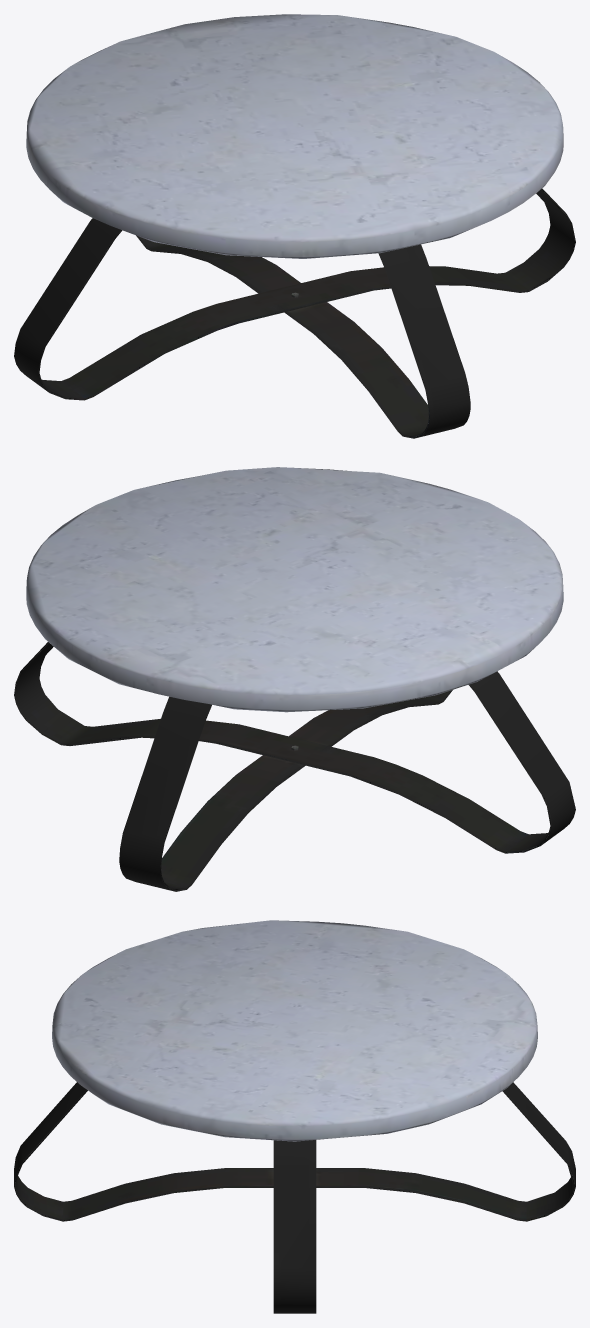
The model's file is coffee_table_round_01.glb.
The picture shows the model from 3 angles, top to bottom: view 1: azimuth 30°, elevation 25°; view 2: azimuth 150°, elevation 25°; view 3: azimuth 270°, elevation 25°; orthographic projection. The views are drawn at different scales.
Parts seen in each view (by area): view 1: coffee_table_round_01; view 2: coffee_table_round_01; view 3: coffee_table_round_01.
Part boxes in pixels (left/top/right/bottom): coffee_table_round_01: left=14, top=14, right=575, bottom=438; coffee_table_round_01: left=14, top=467, right=575, bottom=891; coffee_table_round_01: left=14, top=920, right=575, bottom=1313.
Size of the model in its own units: 1.3 by 0.49 by 1.3.
Materials: 1 (1 with a texture image).
